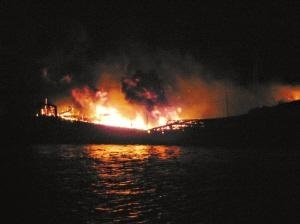fire: (40, 83, 185, 131)
